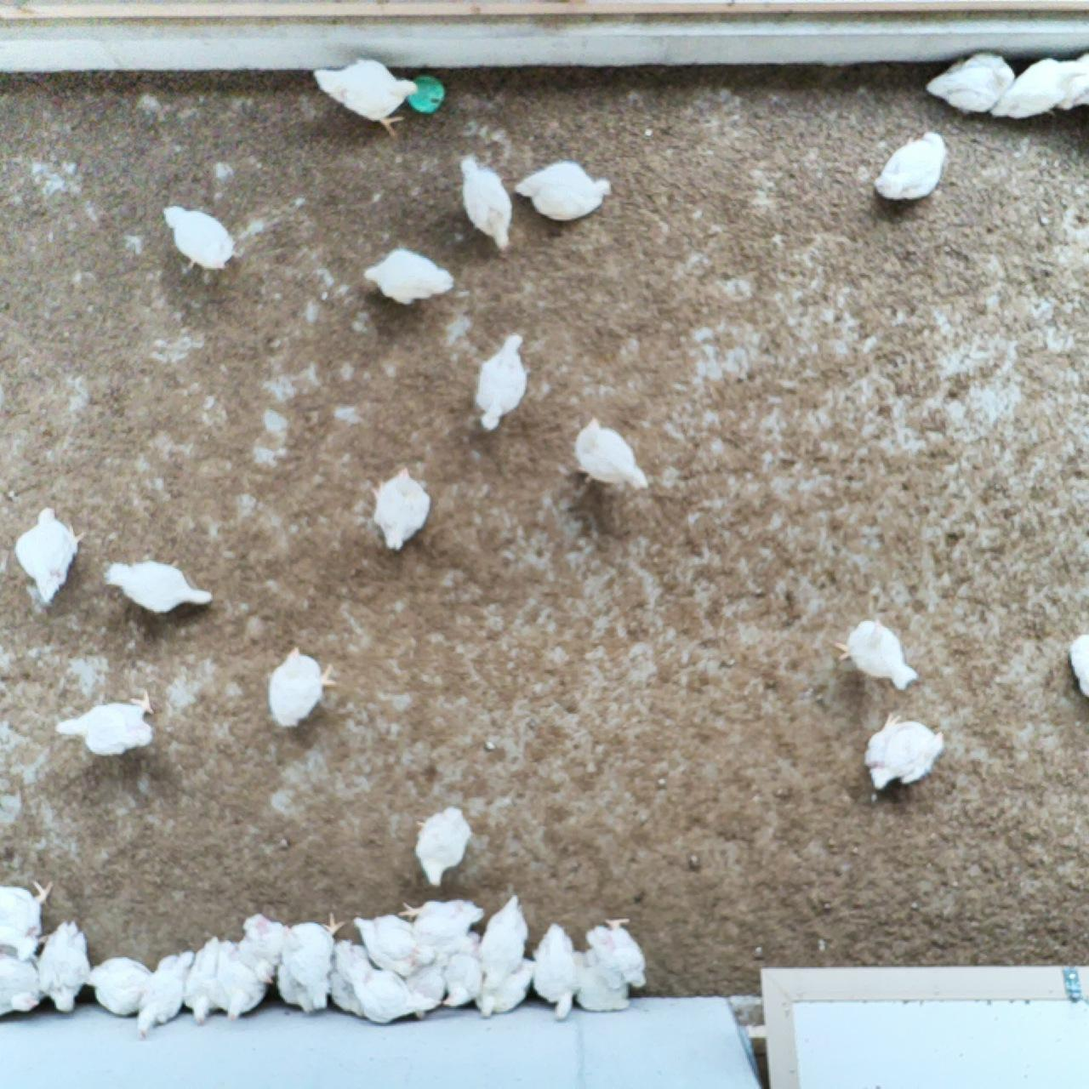chicken: (308, 57, 422, 134), (54, 690, 162, 763), (101, 553, 220, 617), (507, 157, 617, 224), (12, 506, 86, 604), (345, 955, 444, 1025), (867, 129, 955, 207), (921, 49, 1017, 120), (864, 710, 946, 793), (989, 55, 1089, 123), (349, 908, 438, 984), (265, 641, 336, 734), (362, 242, 456, 311), (160, 200, 247, 273), (34, 919, 98, 1017), (455, 152, 515, 256), (399, 897, 483, 971), (472, 331, 531, 436), (280, 912, 340, 1015), (367, 461, 433, 554), (576, 417, 653, 496), (837, 616, 916, 693), (473, 893, 531, 995), (135, 945, 198, 1038), (327, 936, 387, 1023), (77, 955, 161, 1017), (534, 920, 584, 1024), (229, 914, 300, 985), (412, 804, 472, 888), (584, 912, 647, 992), (209, 934, 265, 1024), (471, 952, 534, 1021), (0, 876, 55, 955), (180, 935, 227, 1025), (571, 952, 633, 1016), (438, 942, 489, 1011), (0, 944, 43, 1024), (404, 952, 450, 1022), (269, 955, 317, 1014), (1047, 47, 1089, 114), (1063, 623, 1089, 704)
